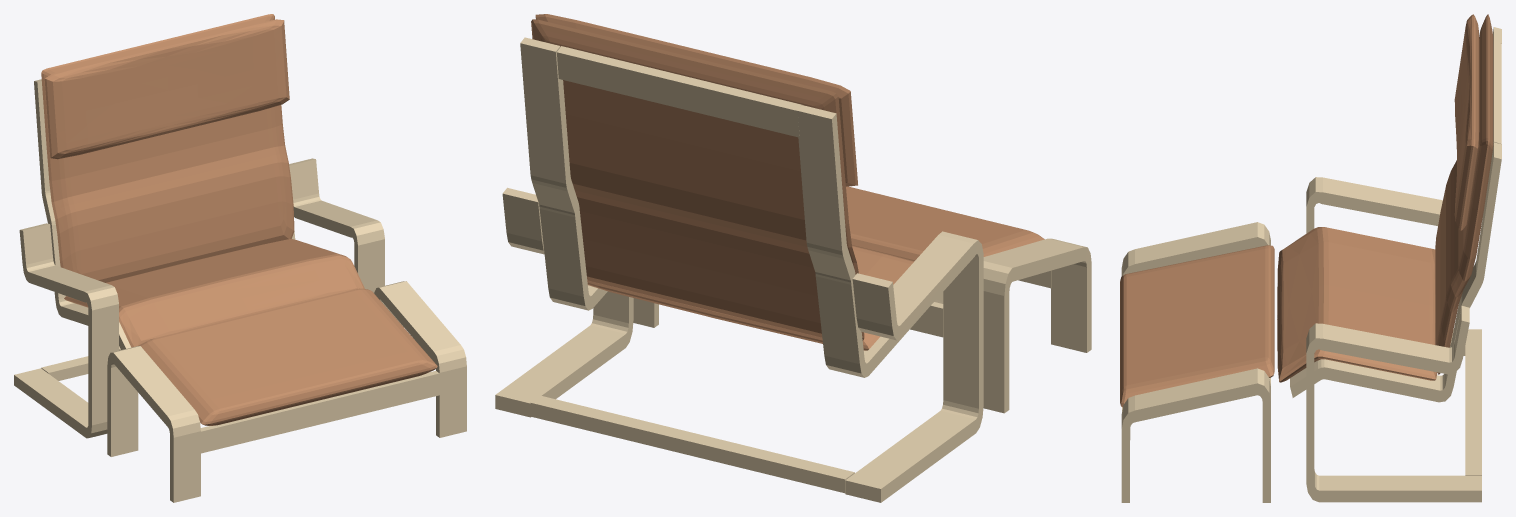
The model's file is sh-kl-chair-ottoman.glb.
The picture shows the model from 3 angles, left to right: view 1: azimuth 30°, elevation 25°; view 2: azimuth 150°, elevation 25°; view 3: azimuth 270°, elevation 25°; orthographic projection. The views are drawn at different scales.
Parts seen in each view (by area): view 1: IKEA_chair_pad_IKEA_chair_pad_Leather, IKEA_chair_frame_IKEA_chair_frame_Chair_wood.001; view 2: IKEA_chair_frame_IKEA_chair_frame_Chair_wood.001, IKEA_chair_pad_IKEA_chair_pad_Leather; view 3: IKEA_chair_pad_IKEA_chair_pad_Leather, IKEA_chair_frame_IKEA_chair_frame_Chair_wood.001.
Boxes of the visible parts, bbox=[...] form: IKEA_chair_pad_IKEA_chair_pad_Leather: bbox=[41, 14, 437, 425]; IKEA_chair_frame_IKEA_chair_frame_Chair_wood.001: bbox=[14, 79, 466, 502]; IKEA_chair_frame_IKEA_chair_frame_Chair_wood.001: bbox=[495, 37, 1091, 502]; IKEA_chair_pad_IKEA_chair_pad_Leather: bbox=[531, 14, 1044, 350]; IKEA_chair_pad_IKEA_chair_pad_Leather: bbox=[1120, 14, 1493, 407]; IKEA_chair_frame_IKEA_chair_frame_Chair_wood.001: bbox=[1121, 27, 1501, 502].
Size of the model in its own units: 1 by 1 by 1.
